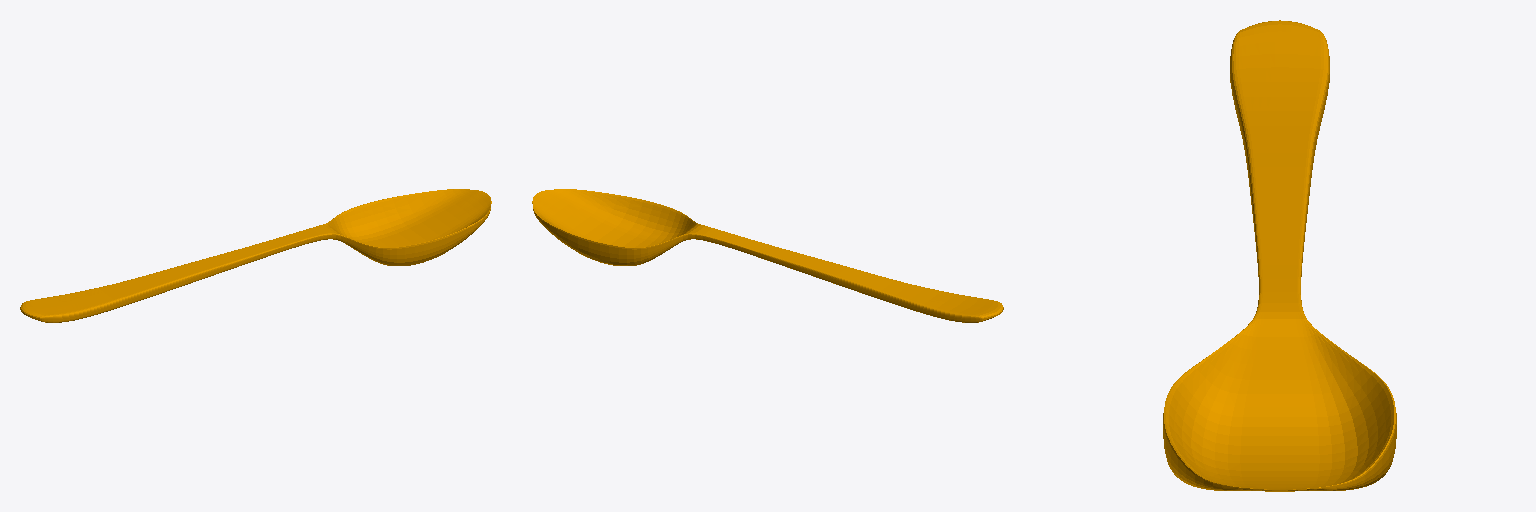
robot.urdf — spoon:
<?xml version="1.0" ?>
<robot name="spoon">
    <link name="spoon">
        <visual>
            <origin xyz="0 0 0" rpy="0 0 0"/>
            <geometry>
                <mesh filename="package://static_objects/spoon/meshes/obj/SM_Spoon.obj"/>
            </geometry>
        </visual>
        <collision>
            <origin xyz="0 0 0" rpy="0 0 0"/>
            <geometry>
                <mesh filename="package://static_objects/spoon/meshes/stl/SM_Spoon_1.stl"/>
            </geometry>
        </collision>
        <collision>
            <origin xyz="0 0 0" rpy="0 0 0"/>
            <geometry>
                <mesh filename="package://static_objects/spoon/meshes/stl/SM_Spoon_2.stl"/>
            </geometry>
        </collision>
        <collision>
            <origin xyz="0 0 0" rpy="0 0 0"/>
            <geometry>
                <mesh filename="package://static_objects/spoon/meshes/stl/SM_Spoon_3.stl"/>
            </geometry>
        </collision>
        <collision>
            <origin xyz="0 0 0" rpy="0 0 0"/>
            <geometry>
                <mesh filename="package://static_objects/spoon/meshes/stl/SM_Spoon_4.stl"/>
            </geometry>
        </collision>
        <collision>
            <origin xyz="0 0 0" rpy="0 0 0"/>
            <geometry>
                <mesh filename="package://static_objects/spoon/meshes/stl/SM_Spoon_5.stl"/>
            </geometry>
        </collision>
        <collision>
            <origin xyz="0 0 0" rpy="0 0 0"/>
            <geometry>
                <mesh filename="package://static_objects/spoon/meshes/stl/SM_Spoon_6.stl"/>
            </geometry>
        </collision>
        <collision>
            <origin xyz="0 0 0" rpy="0 0 0"/>
            <geometry>
                <mesh filename="package://static_objects/spoon/meshes/stl/SM_Spoon_7.stl"/>
            </geometry>
        </collision>
        <collision>
            <origin xyz="0 0 0" rpy="0 0 0"/>
            <geometry>
                <mesh filename="package://static_objects/spoon/meshes/stl/SM_Spoon_8.stl"/>
            </geometry>
        </collision>
        <collision>
            <origin xyz="0 0 0" rpy="0 0 0"/>
            <geometry>
                <mesh filename="package://static_objects/spoon/meshes/stl/SM_Spoon_9.stl"/>
            </geometry>
        </collision>
        <collision>
            <origin xyz="0 0 0" rpy="0 0 0"/>
            <geometry>
                <mesh filename="package://static_objects/spoon/meshes/stl/SM_Spoon_10.stl"/>
            </geometry>
        </collision>
        <collision>
            <origin xyz="0 0 0" rpy="0 0 0"/>
            <geometry>
                <mesh filename="package://static_objects/spoon/meshes/stl/SM_Spoon_11.stl"/>
            </geometry>
        </collision>
        <collision>
            <origin xyz="0 0 0" rpy="0 0 0"/>
            <geometry>
                <mesh filename="package://static_objects/spoon/meshes/stl/SM_Spoon_12.stl"/>
            </geometry>
        </collision>
        <collision>
            <origin xyz="0 0 0" rpy="0 0 0"/>
            <geometry>
                <mesh filename="package://static_objects/spoon/meshes/stl/SM_Spoon_13.stl"/>
            </geometry>
        </collision>
        <collision>
            <origin xyz="0 0 0" rpy="0 0 0"/>
            <geometry>
                <mesh filename="package://static_objects/spoon/meshes/stl/SM_Spoon_14.stl"/>
            </geometry>
        </collision>
        <collision>
            <origin xyz="0 0 0" rpy="0 0 0"/>
            <geometry>
                <mesh filename="package://static_objects/spoon/meshes/stl/SM_Spoon_15.stl"/>
            </geometry>
        </collision>
        <collision>
            <origin xyz="0 0 0" rpy="0 0 0"/>
            <geometry>
                <mesh filename="package://static_objects/spoon/meshes/stl/SM_Spoon_16.stl"/>
            </geometry>
        </collision>
        <collision>
            <origin xyz="0 0 0" rpy="0 0 0"/>
            <geometry>
                <mesh filename="package://static_objects/spoon/meshes/stl/SM_Spoon_17.stl"/>
            </geometry>
        </collision>
    </link>
</robot>

--- What the picture shows (computed from the rendered views, not written in the file) ---
3 views of the same robot in one strip: view 1: azimuth 30°, elevation 25°; view 2: azimuth 150°, elevation 25°; view 3: azimuth 270°, elevation 25° (orthographic).
Model spoon with 1 links and 0 joints (none), rooted at spoon, posed all joints at 0.
Visible links, largest first — view 1: spoon; view 2: spoon; view 3: spoon.
Boxes of the visible links, x1,y1,x2,y2 form: spoon: (20,189,491,322); spoon: (532,189,1003,322); spoon: (1163,20,1396,491).
Bounding box of the posed robot: 0.1698 × 0.0349 × 0.0121 m (x, y, z).
Meshes: 1 distinct files referenced, 1 mesh visuals loaded (1 OBJ).